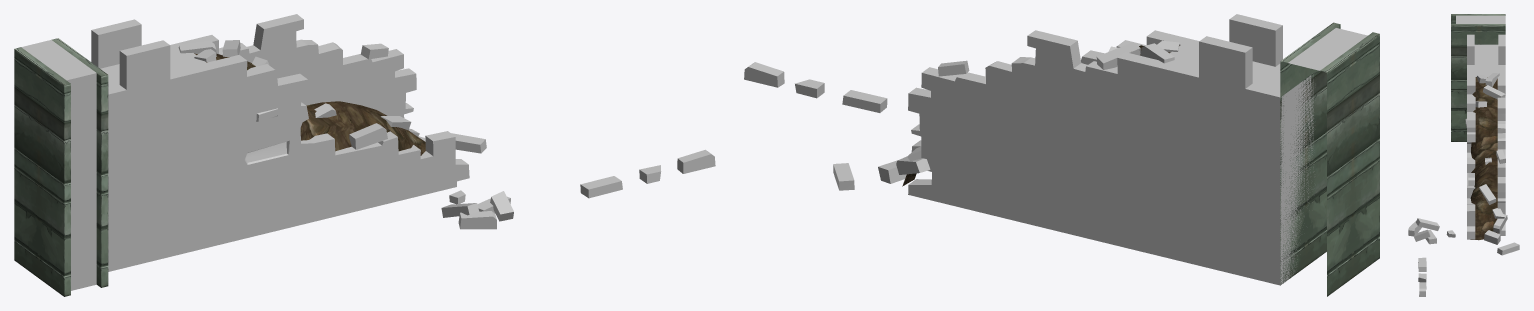
Rendered from 2_YiZhan_WeiQiang_01.FBX.
The picture shows the model from 3 angles, left to right: view 1: azimuth 30°, elevation 25°; view 2: azimuth 150°, elevation 25°; view 3: azimuth 270°, elevation 25°; orthographic projection. The views are drawn at different scales.
Visible parts, largest first — view 1: 2_YiZhan_WeiQiang_03, 2_YiZhan_WeiQiang_01, 2_YiZhan_WeiQiang_02, 2_YiZhan_WeiQiang_04, 2_YiZhan_WeiQiang_05, 2_YiZhan_WeiQiang_08, 2_YiZhan_WeiQiang_06; view 2: 2_YiZhan_WeiQiang_03, 2_YiZhan_WeiQiang_02, 2_YiZhan_WeiQiang_01, 2_YiZhan_WeiQiang_04, 2_YiZhan_WeiQiang_08, 2_YiZhan_WeiQiang_06, 2_YiZhan_WeiQiang_07; view 3: 2_YiZhan_WeiQiang_03, 2_YiZhan_WeiQiang_01, 2_YiZhan_WeiQiang_02, 2_YiZhan_WeiQiang_05, 2_YiZhan_WeiQiang_04, 2_YiZhan_WeiQiang_06, 2_YiZhan_WeiQiang_08, 2_YiZhan_WeiQiang_07.
Boxes of the visible parts, bbox=[...] form: 2_YiZhan_WeiQiang_03: bbox=[178, 14, 486, 245]; 2_YiZhan_WeiQiang_01: bbox=[14, 38, 108, 296]; 2_YiZhan_WeiQiang_02: bbox=[100, 42, 214, 271]; 2_YiZhan_WeiQiang_04: bbox=[91, 19, 170, 89]; 2_YiZhan_WeiQiang_05: bbox=[441, 190, 513, 229]; 2_YiZhan_WeiQiang_08: bbox=[677, 149, 715, 173]; 2_YiZhan_WeiQiang_06: bbox=[580, 176, 622, 198]; 2_YiZhan_WeiQiang_03: bbox=[833, 30, 1188, 254]; 2_YiZhan_WeiQiang_02: bbox=[1152, 38, 1314, 285]; 2_YiZhan_WeiQiang_01: bbox=[1280, 22, 1379, 296]; 2_YiZhan_WeiQiang_04: bbox=[1199, 14, 1282, 88]; 2_YiZhan_WeiQiang_08: bbox=[744, 62, 784, 87]; 2_YiZhan_WeiQiang_06: bbox=[842, 90, 887, 112]; 2_YiZhan_WeiQiang_07: bbox=[795, 79, 824, 98]; 2_YiZhan_WeiQiang_03: bbox=[1465, 73, 1519, 255]; 2_YiZhan_WeiQiang_01: bbox=[1451, 14, 1505, 141]; 2_YiZhan_WeiQiang_02: bbox=[1467, 44, 1505, 76]; 2_YiZhan_WeiQiang_05: bbox=[1408, 218, 1455, 244]; 2_YiZhan_WeiQiang_04: bbox=[1467, 34, 1505, 64]; 2_YiZhan_WeiQiang_06: bbox=[1418, 257, 1426, 271]; 2_YiZhan_WeiQiang_08: bbox=[1419, 282, 1426, 296]; 2_YiZhan_WeiQiang_07: bbox=[1418, 273, 1426, 282].
Size of the model in its own units: 2570 by 838 by 727.
